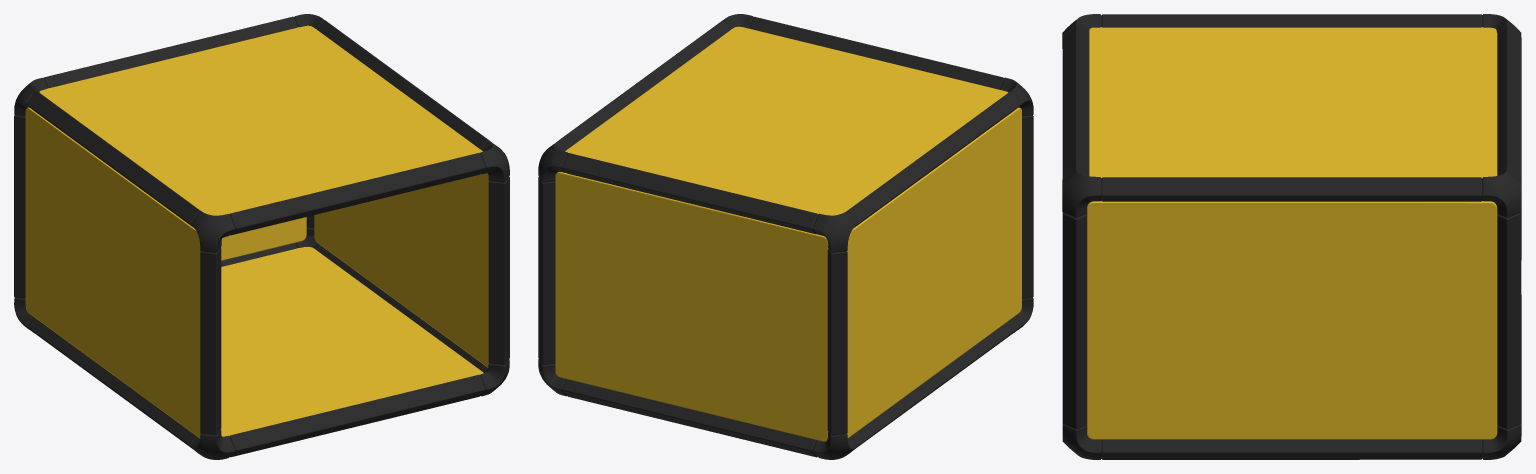
3 renders of one model, left to right at view 1: azimuth 30°, elevation 25°; view 2: azimuth 150°, elevation 25°; view 3: azimuth 270°, elevation 25°, orthographic. The views are drawn at different scales.
Parts seen in each view (by area): view 1: 329x374x229; view 2: 329x374x229; view 3: 329x374x229.
Part boxes in pixels (left/top/right/bottom): 329x374x229: left=14, top=14, right=509, bottom=459; 329x374x229: left=538, top=14, right=1033, bottom=459; 329x374x229: left=1062, top=14, right=1521, bottom=459.
Bounding box in the file's own units: 0.4068 × 0.3067 × 0.4513.
